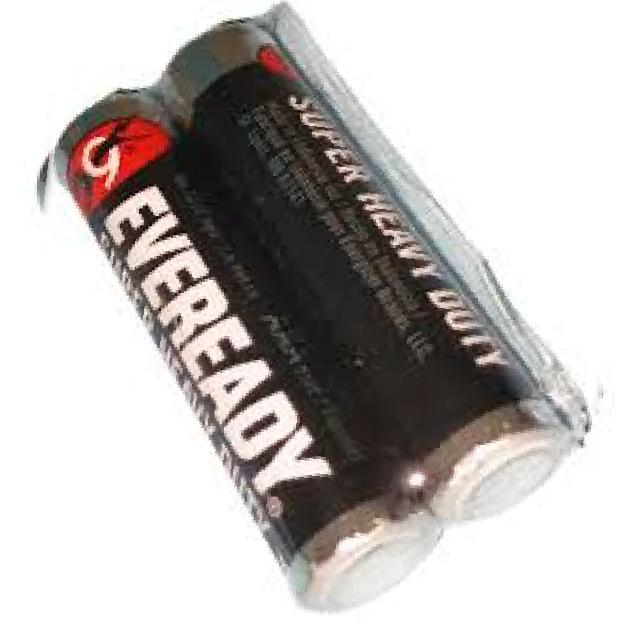Battery: (48, 86, 458, 615), (156, 15, 575, 523)
